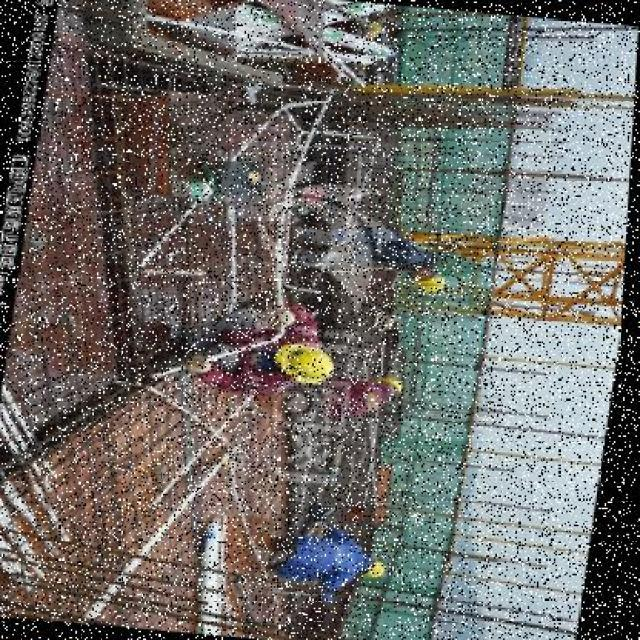helmet: (273, 335, 346, 387), (411, 265, 455, 296), (365, 555, 397, 583)
